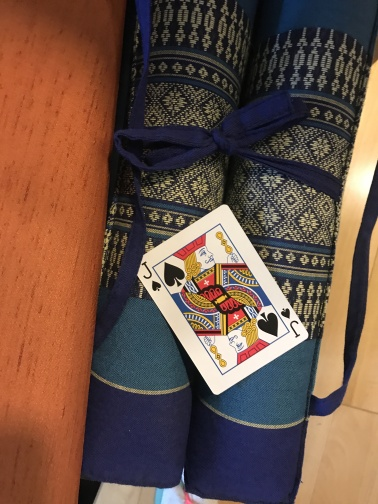jack: (131, 203, 310, 397)
